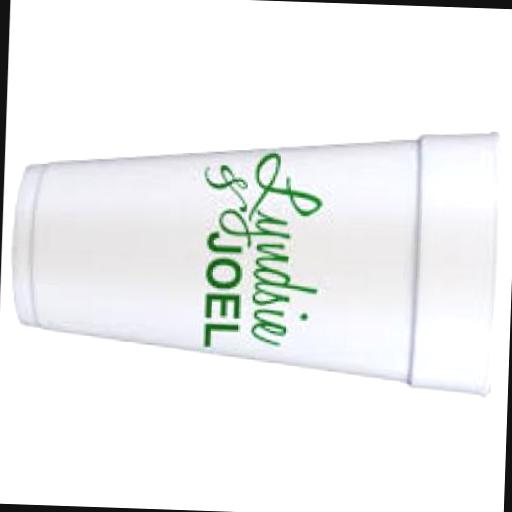paper: (9, 110, 508, 393)
